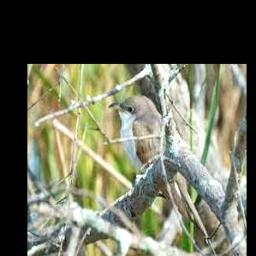Cuckoo: (108, 96, 203, 227)
